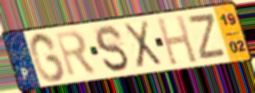G: (27, 31, 68, 84)
H: (155, 14, 200, 67)
R: (53, 29, 100, 80)
S: (93, 23, 131, 73)
X: (121, 18, 164, 71)
Z: (187, 11, 228, 61)
